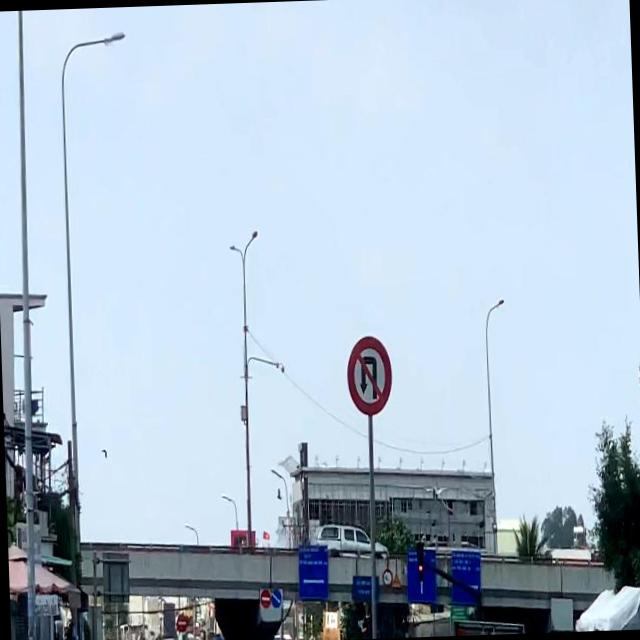P-124a1: (346, 332, 396, 418)
